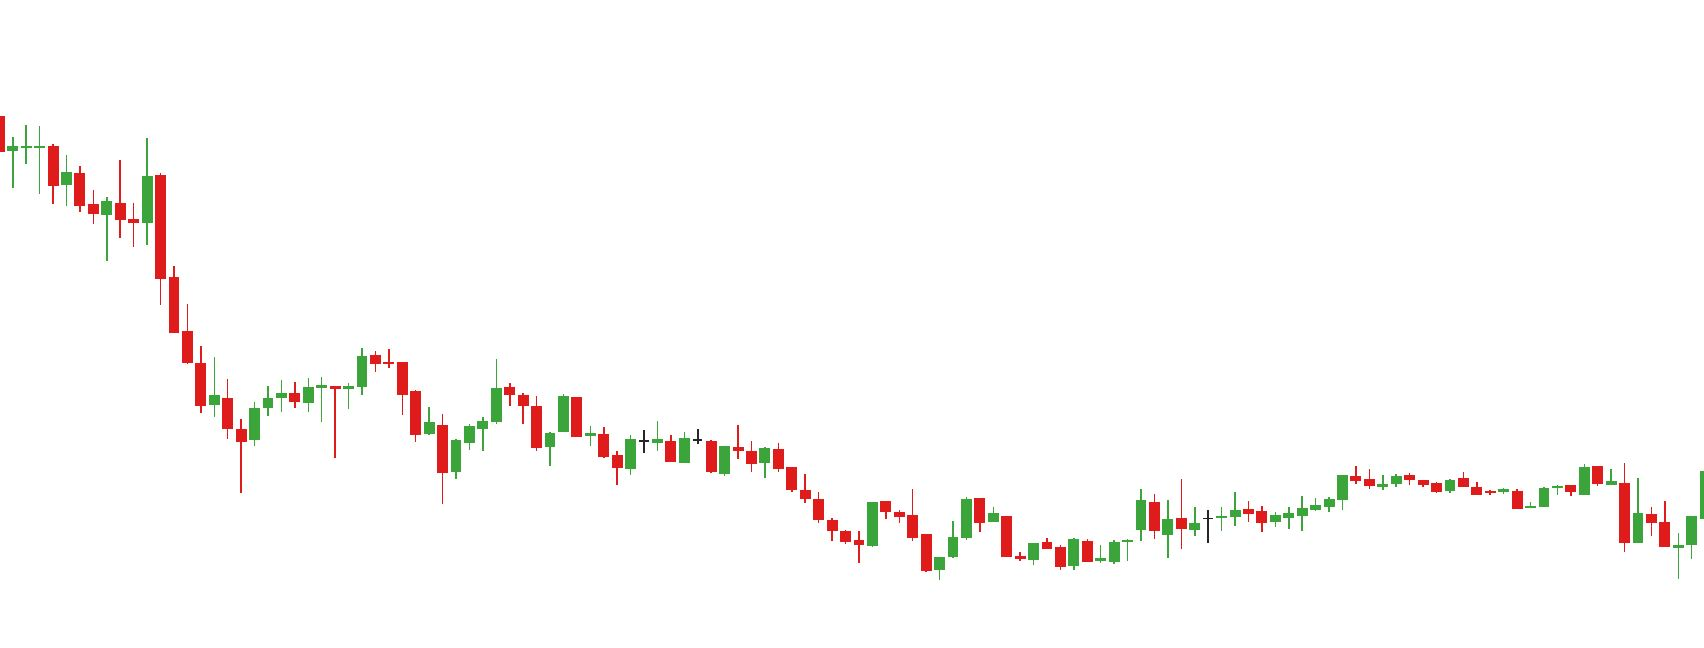sell: (423, 357, 546, 461)
